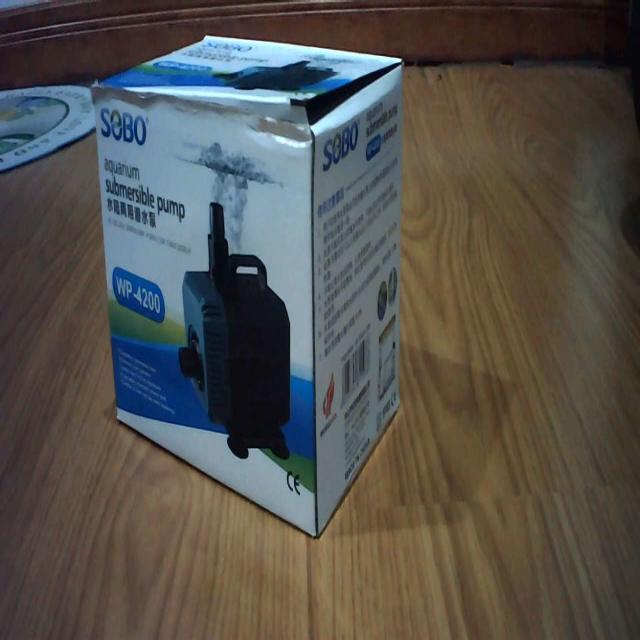SOBO_WP_4200: (92, 22, 406, 544)
